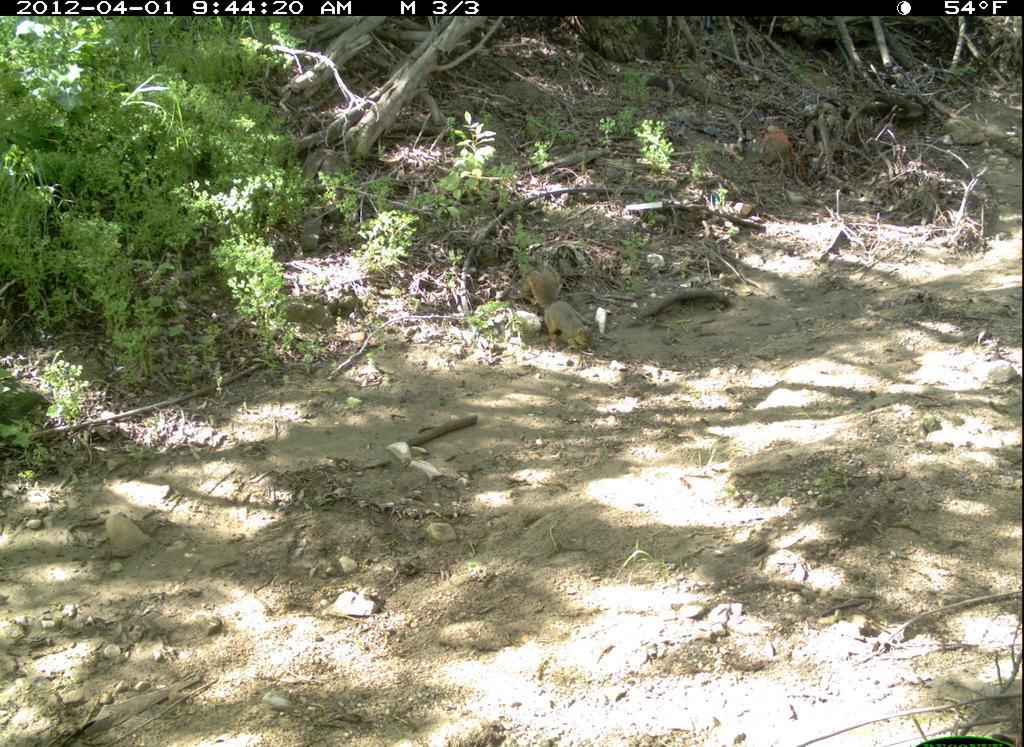squirrel: (525, 250, 612, 370)
